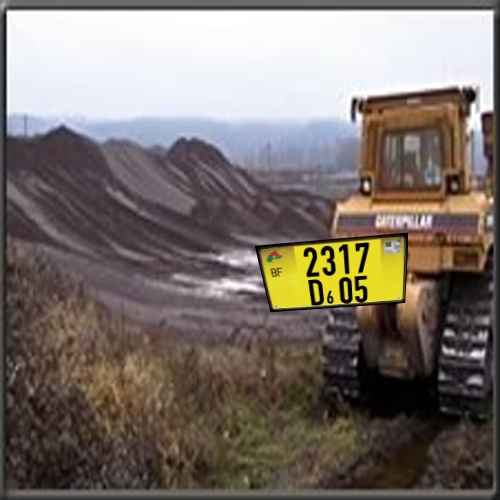plate: (244, 228, 426, 317)
